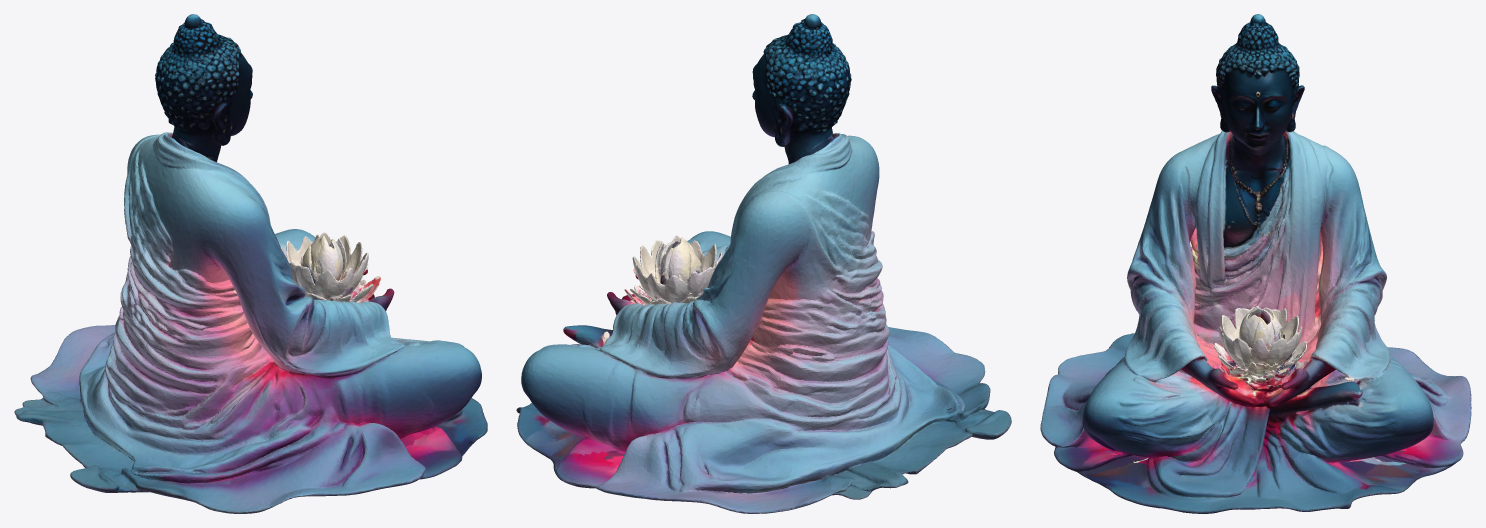
File: modelo1.glb
3 renders of one model, left to right at view 1: azimuth 30°, elevation 25°; view 2: azimuth 150°, elevation 25°; view 3: azimuth 270°, elevation 25°, orthographic. The views are drawn at different scales.
Visible parts, largest first — view 1: tripo_node_dd69f3f1-f228-4ab9-84b5-b2055096fd72; view 2: tripo_node_dd69f3f1-f228-4ab9-84b5-b2055096fd72; view 3: tripo_node_dd69f3f1-f228-4ab9-84b5-b2055096fd72.
Part boxes in pixels (<box>): tripo_node_dd69f3f1-f228-4ab9-84b5-b2055096fd72: <box>14,14,487,513</box>; tripo_node_dd69f3f1-f228-4ab9-84b5-b2055096fd72: <box>516,14,1011,513</box>; tripo_node_dd69f3f1-f228-4ab9-84b5-b2055096fd72: <box>1040,14,1471,513</box>.
Bounding box in the file's own units: 0.9999 × 0.9852 × 0.9886.
1 material, 1 textured.
